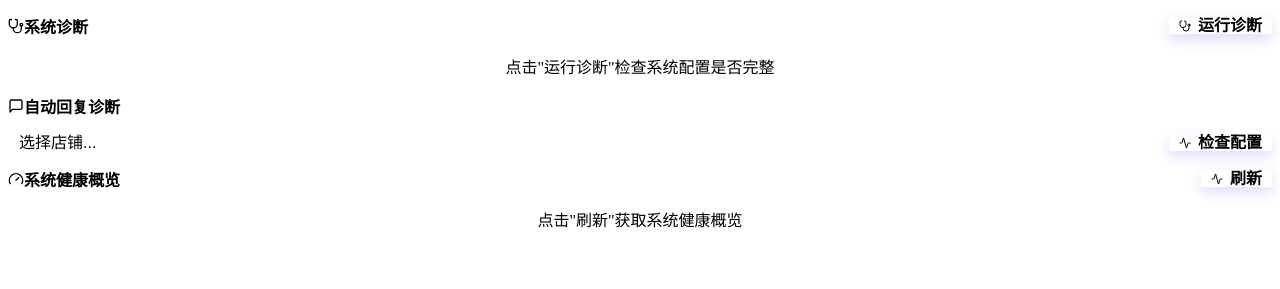
Test: DiagnosticsPanel › warns when checking without selecting a shop
The image size is (1280, 289).
Step 1. Click the button "检查配置" → (1220, 142), box 1169,134 -> 1272,150
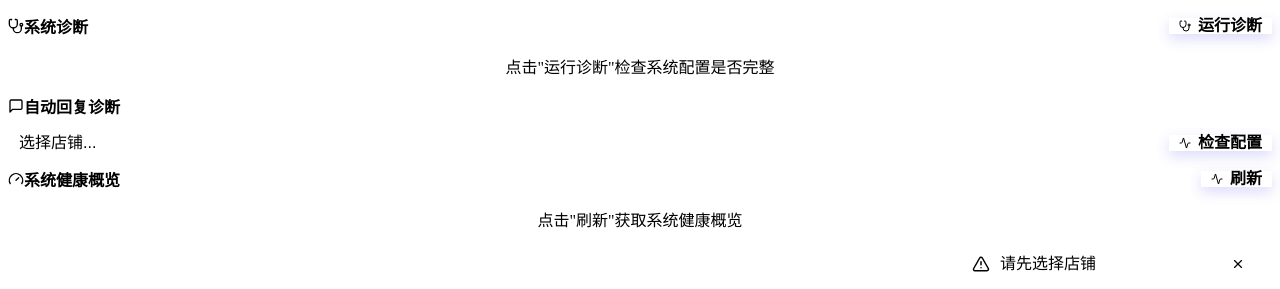
Check: the text "请先选择店铺" is shown, box 1000,255 -> 1096,272
